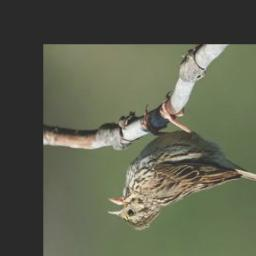Sparrow: (105, 91, 256, 232)
